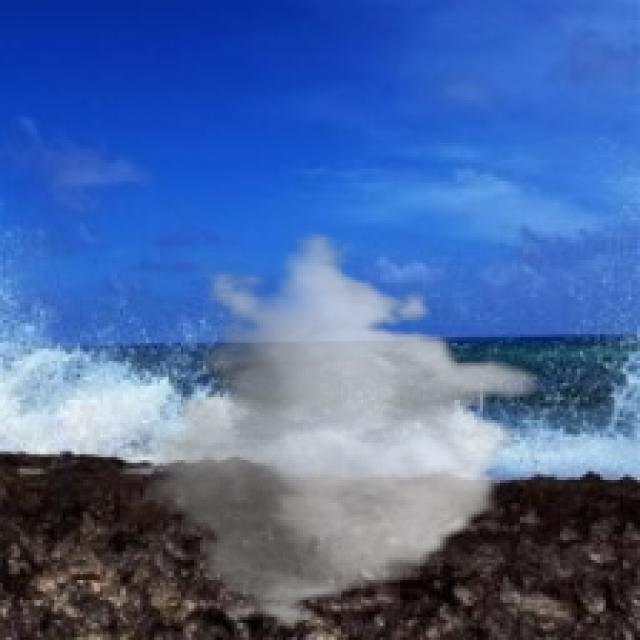smoke: (128, 232, 543, 632)
